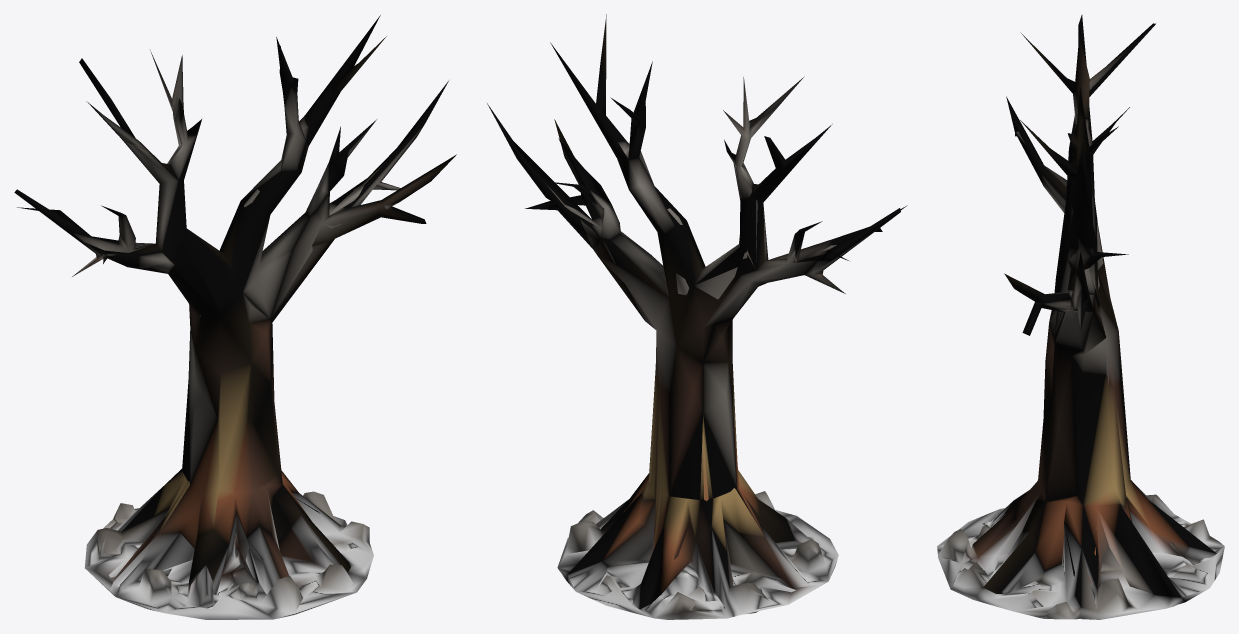
The model's file is gen3d-burnt-tree-lod1.glb.
3 renders of one model, left to right at view 1: azimuth 30°, elevation 25°; view 2: azimuth 150°, elevation 25°; view 3: azimuth 270°, elevation 25°, orthographic. The views are drawn at different scales.
Parts seen in each view (by area): view 1: part_0; view 2: part_0; view 3: part_0.
Boxes of the visible parts, <box> form: part_0: <box>14,15,456,619</box>; part_0: <box>487,14,907,619</box>; part_0: <box>937,15,1224,619</box>.
Size of the model in its own units: 0.8721 by 0.9984 by 0.5139.
